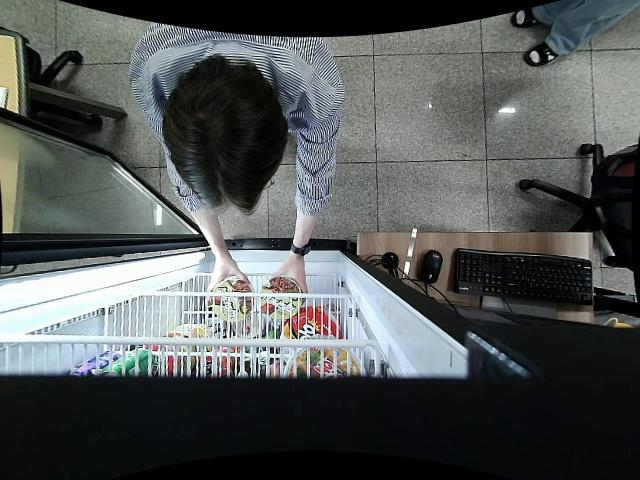00_hand: (266, 265, 312, 309), (203, 263, 252, 294)
03_chapagetti_L: (209, 278, 254, 322), (261, 279, 303, 319)
